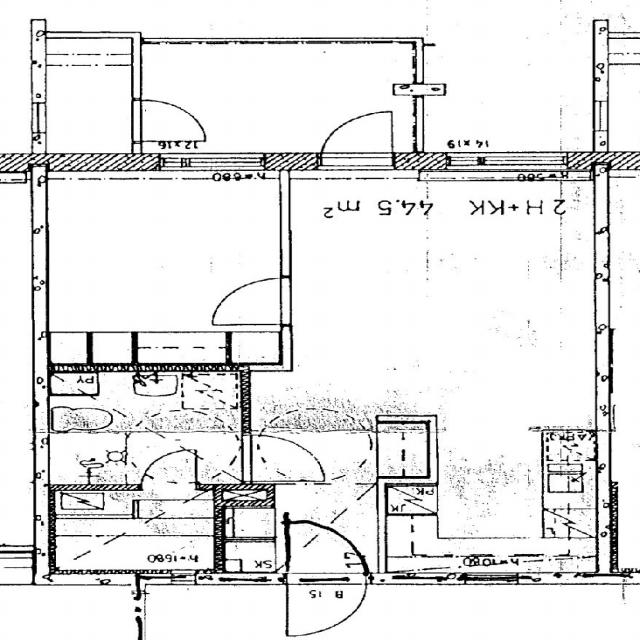door: (286, 572, 366, 636), (286, 520, 366, 584), (321, 104, 392, 170), (240, 435, 322, 481), (212, 278, 291, 324), (131, 100, 203, 140), (142, 448, 196, 491)
